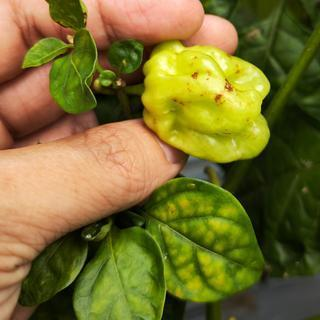Defect: (216, 75, 240, 96), (168, 91, 191, 111), (211, 88, 230, 107), (186, 68, 204, 84)
